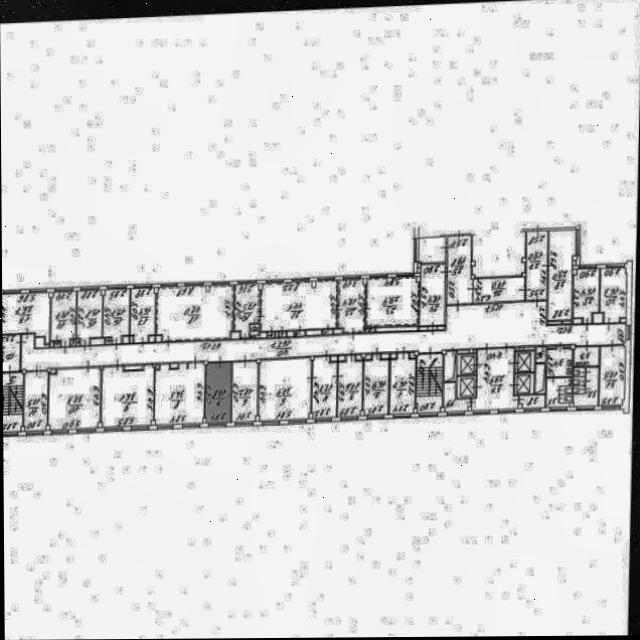room: (22, 298, 629, 366), (157, 281, 237, 338), (262, 278, 340, 327), (261, 355, 313, 418), (104, 361, 156, 423), (52, 363, 103, 425), (157, 359, 207, 422), (473, 347, 520, 409), (367, 275, 423, 324), (1, 287, 52, 338), (550, 230, 577, 319), (449, 234, 475, 302), (418, 352, 445, 412), (392, 351, 418, 413), (602, 346, 628, 406), (422, 262, 447, 324), (208, 359, 233, 420), (235, 358, 260, 419), (366, 352, 391, 413), (105, 284, 132, 340), (26, 367, 51, 427), (315, 354, 339, 416), (340, 353, 364, 414), (528, 230, 549, 299), (602, 267, 628, 322), (340, 276, 366, 330), (2, 367, 25, 428), (576, 268, 601, 323), (79, 286, 104, 341), (132, 284, 157, 339), (474, 276, 528, 301), (235, 280, 260, 334), (54, 287, 78, 342), (576, 367, 601, 406), (2, 330, 23, 367), (447, 381, 473, 410), (549, 377, 574, 407), (550, 348, 575, 377), (420, 236, 448, 261), (576, 346, 602, 366), (447, 350, 458, 380), (523, 395, 548, 407), (521, 352, 533, 371), (464, 355, 477, 372), (464, 377, 476, 395), (520, 375, 532, 392), (539, 347, 548, 362), (576, 385, 588, 393), (562, 394, 574, 402), (562, 385, 574, 393), (253, 322, 261, 333), (576, 377, 587, 384), (56, 337, 62, 343), (108, 334, 113, 340), (73, 335, 77, 342)
